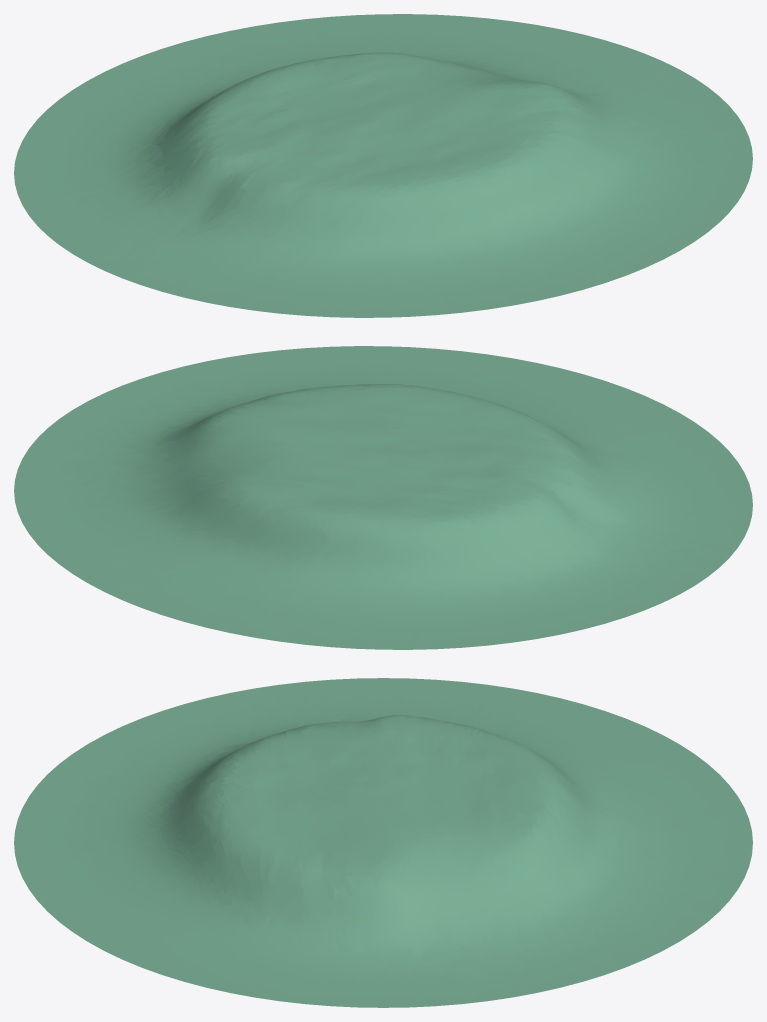
The model's file is island_circular_B_B.fbx.
The picture shows the model from 3 angles, top to bottom: view 1: azimuth 30°, elevation 25°; view 2: azimuth 150°, elevation 25°; view 3: azimuth 270°, elevation 25°; orthographic projection. The views are drawn at different scales.
Parts seen in each view (by area): view 1: island_circular_B_B; view 2: island_circular_B_B; view 3: island_circular_B_B.
Part boxes in pixels (bbox=[...]): island_circular_B_B: bbox=[14, 14, 752, 317]; island_circular_B_B: bbox=[14, 346, 752, 649]; island_circular_B_B: bbox=[14, 678, 752, 1007].
Bounding box in the file's own units: 28127 × 1962 × 26632.
